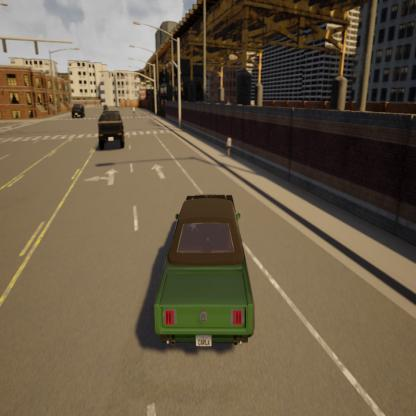Cars: (138, 188, 269, 356), (94, 105, 128, 151), (69, 100, 86, 121)
Pedestrian: (224, 132, 235, 162)
